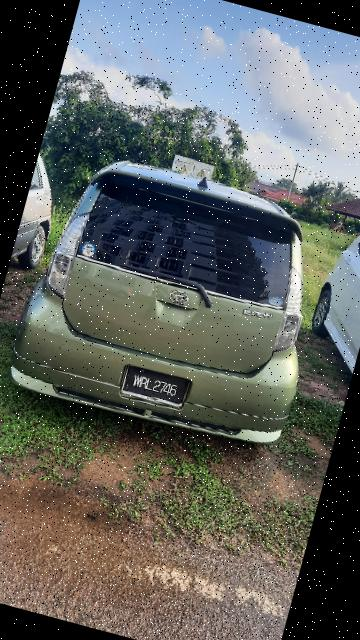License_Plate: (115, 362, 202, 415)
car: (1, 129, 353, 465)
